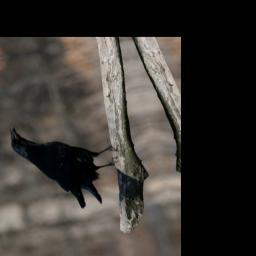Crow: (4, 110, 133, 219)
